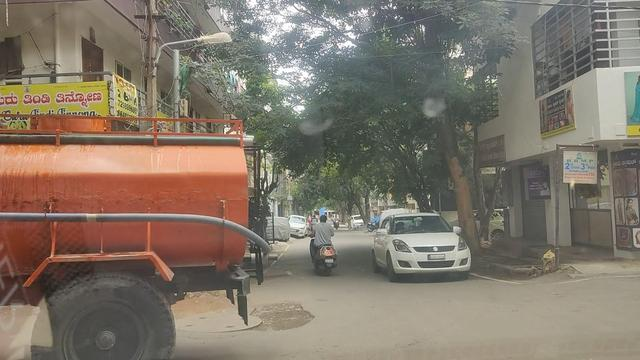HMV: (0, 97, 262, 360)
LMV: (368, 205, 473, 287), (307, 200, 347, 284)
RoadDamages: (174, 298, 320, 338)
